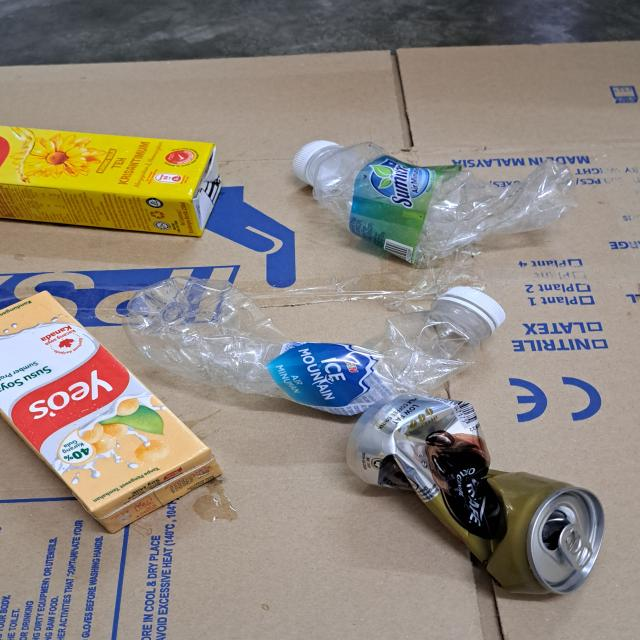can: (349, 395, 605, 595)
cardboard: (0, 40, 640, 640)
drink carton: (0, 288, 220, 529), (0, 122, 222, 238)
plastic bottle: (124, 274, 504, 416), (292, 140, 577, 266)
plastic bottle cap: (434, 284, 504, 333), (292, 142, 342, 188)
